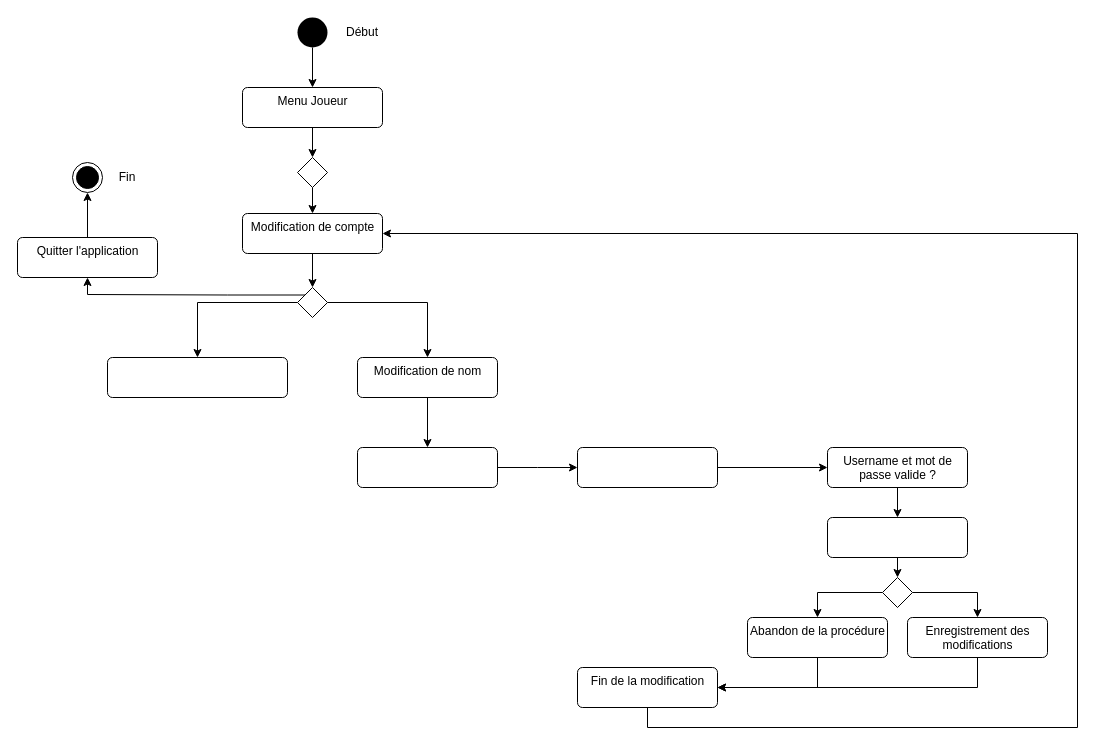
The diagram is 1103 pixels wide and 753 high, and some of its shapes have lost their labels. The centre of each missing label's shape, as x and y in pixels:
Entrée des modifications: the point at 427,467
Modification de mot de passe: the point at 197,377
Nouveau nom valide ?: the point at 897,537
Vérification de la validité des modifications: the point at 647,467
